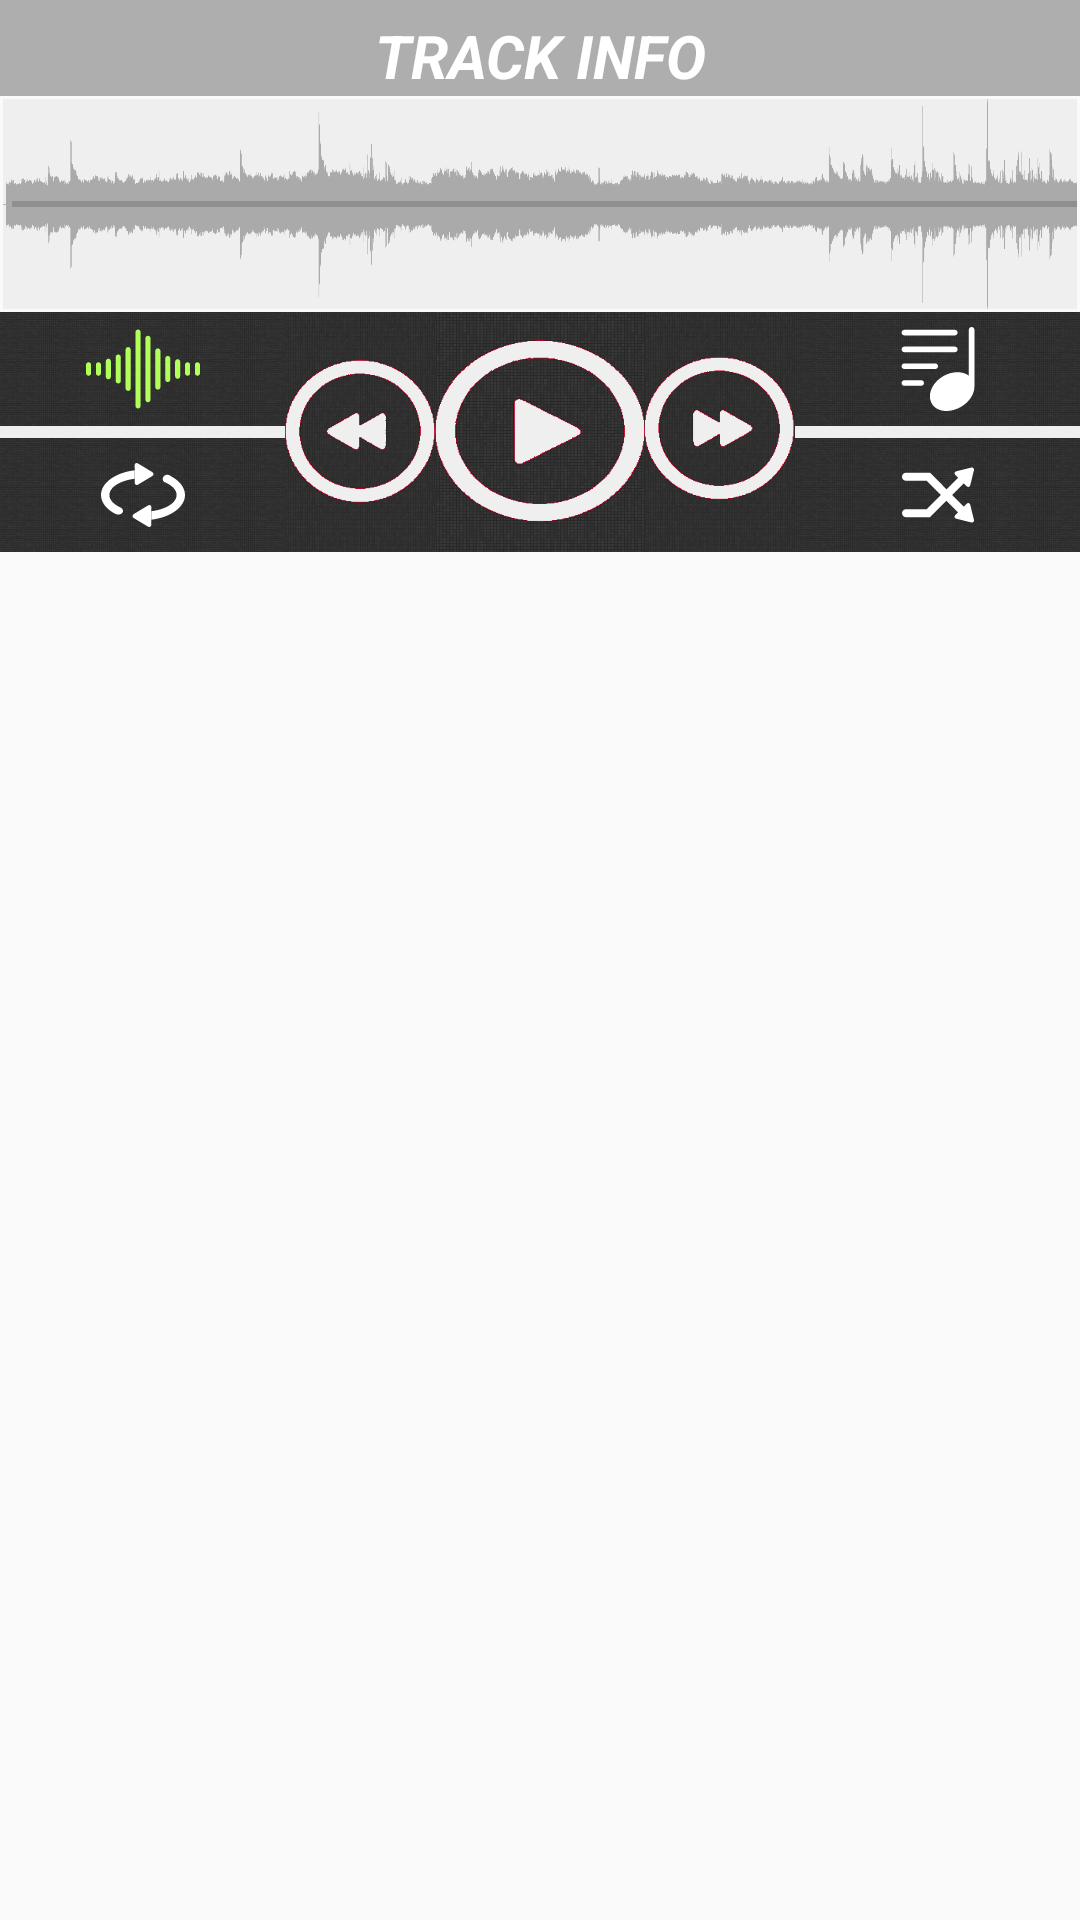

Icons on this 1080*1920 Android screen, each with the point to tap as [x,y]:
next: [719,428]
play: [540,431]
previous: [360,431]
